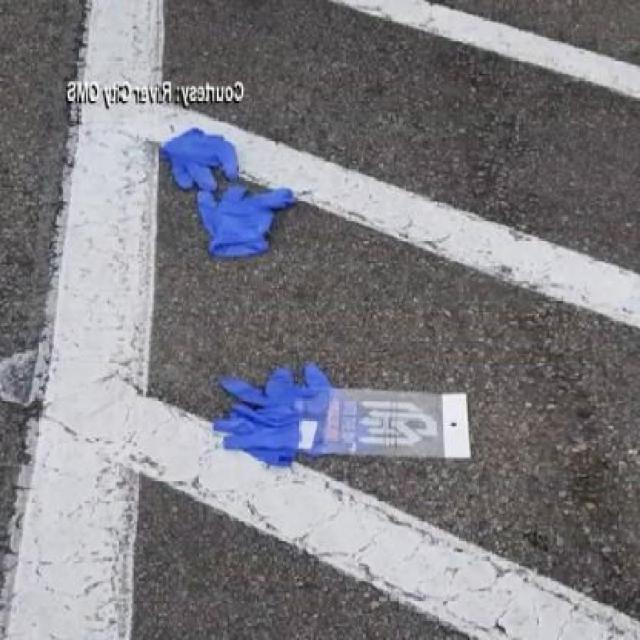gloved_hand: (205, 352, 358, 492), (198, 173, 304, 270), (157, 118, 245, 194)
